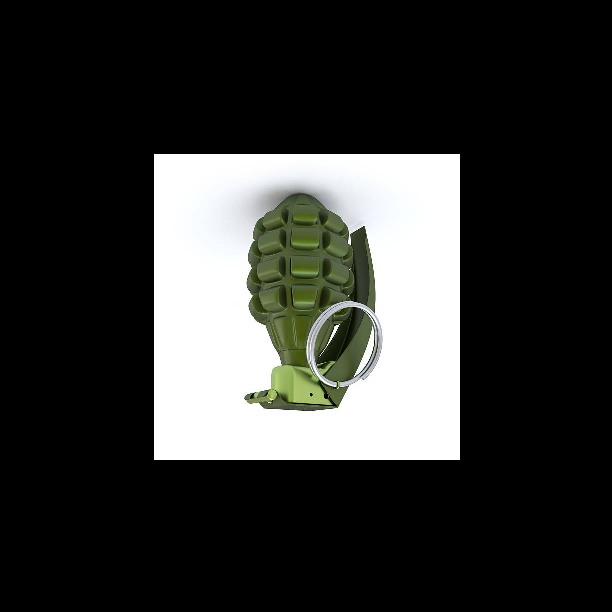e1: (245, 191, 384, 423)
